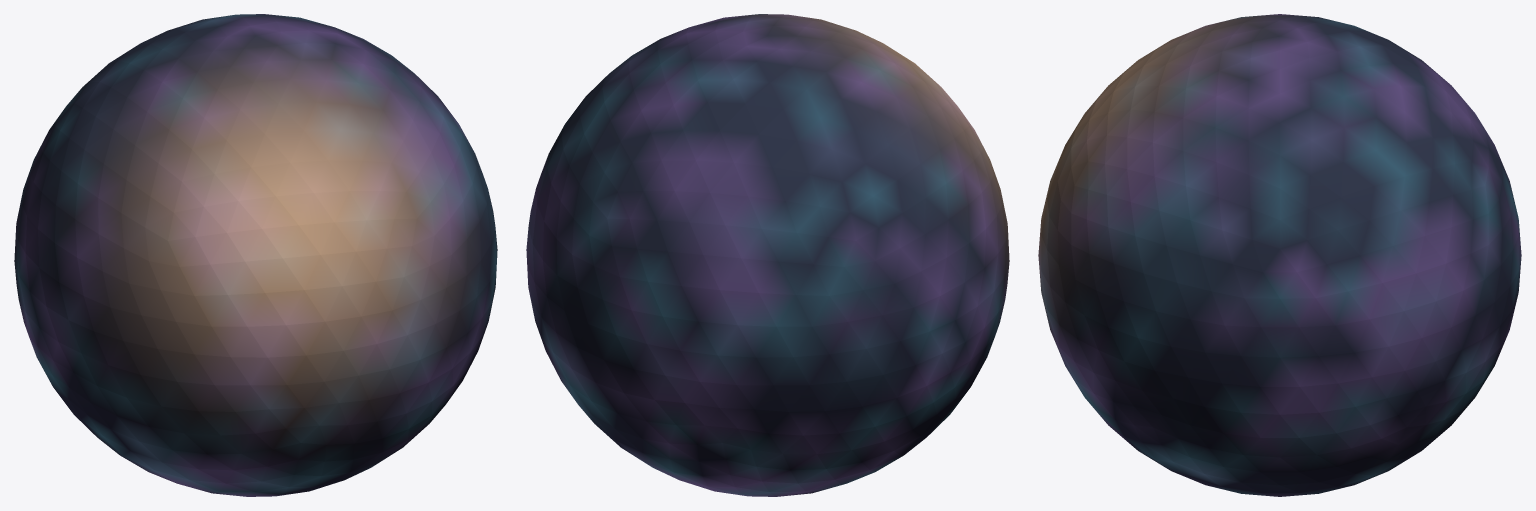
Rendered from sky_aperture.glb.
3 renders of one model, left to right at view 1: azimuth 30°, elevation 25°; view 2: azimuth 150°, elevation 25°; view 3: azimuth 270°, elevation 25°, orthographic.
Parts seen in each view (by area): view 1: sky_aperture; view 2: sky_aperture; view 3: sky_aperture.
Part boxes in pixels (x1,y1,x2,y2): sky_aperture: (14, 14, 497, 496); sky_aperture: (526, 14, 1009, 496); sky_aperture: (1038, 14, 1521, 496).
Size of the model in its own units: 2 by 2 by 2.
